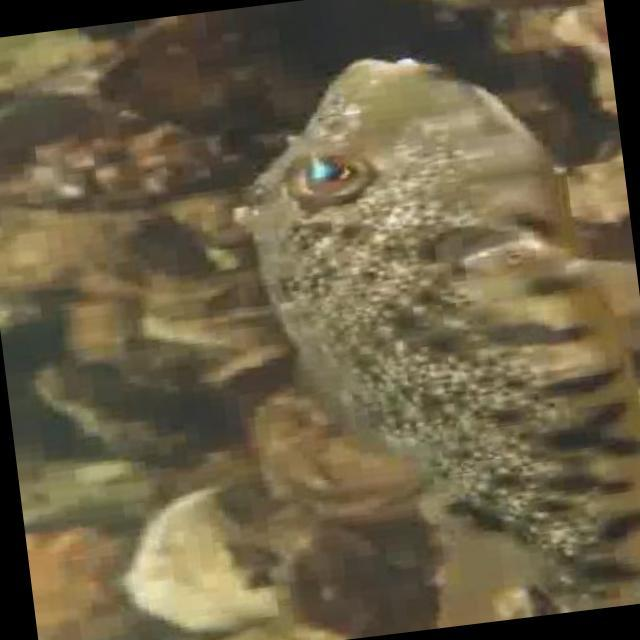Oyster- Indeterminate: (220, 355, 434, 564), (101, 481, 291, 640), (12, 118, 289, 208), (270, 511, 403, 640)
Oyster-Closed: (19, 332, 236, 493)
